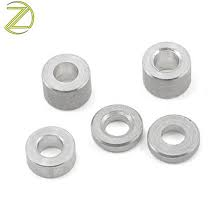No thread: (44, 58, 85, 85), (97, 111, 135, 140), (154, 119, 189, 148), (33, 132, 66, 161), (149, 49, 184, 73)
